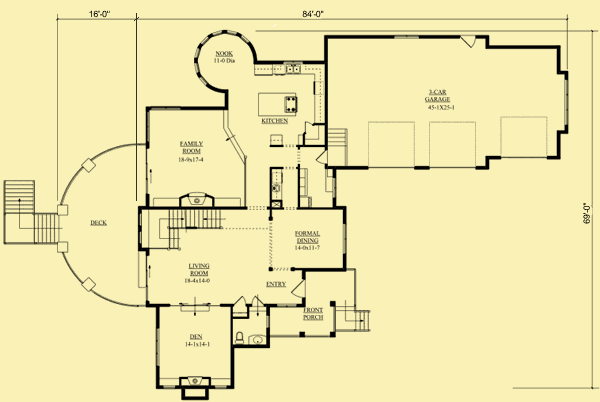door: (458, 33, 480, 50), (290, 281, 307, 299), (229, 293, 246, 308), (315, 148, 327, 168), (302, 116, 314, 132)
large_sink: (233, 327, 245, 346)
small_sink: (245, 334, 267, 347)
stairs: (2, 180, 62, 247), (139, 207, 224, 251), (333, 307, 373, 331), (327, 125, 348, 165)
twin_sink: (284, 63, 302, 76)
window: (563, 77, 569, 122), (340, 221, 348, 254)
